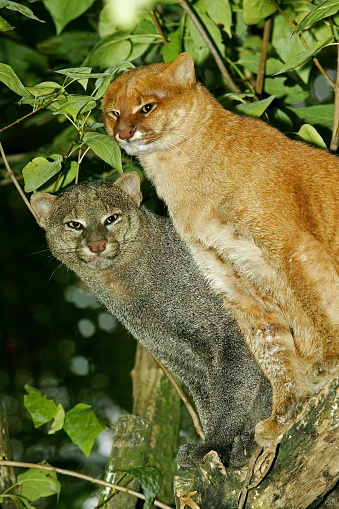Jaguarundi: (95, 48, 337, 416), (13, 170, 277, 454)
